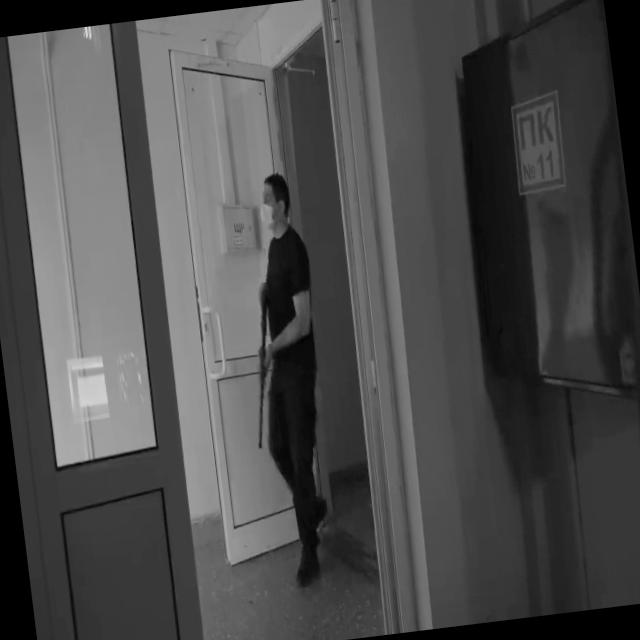gun: (238, 280, 288, 448)
person with a gun: (225, 170, 348, 592)
